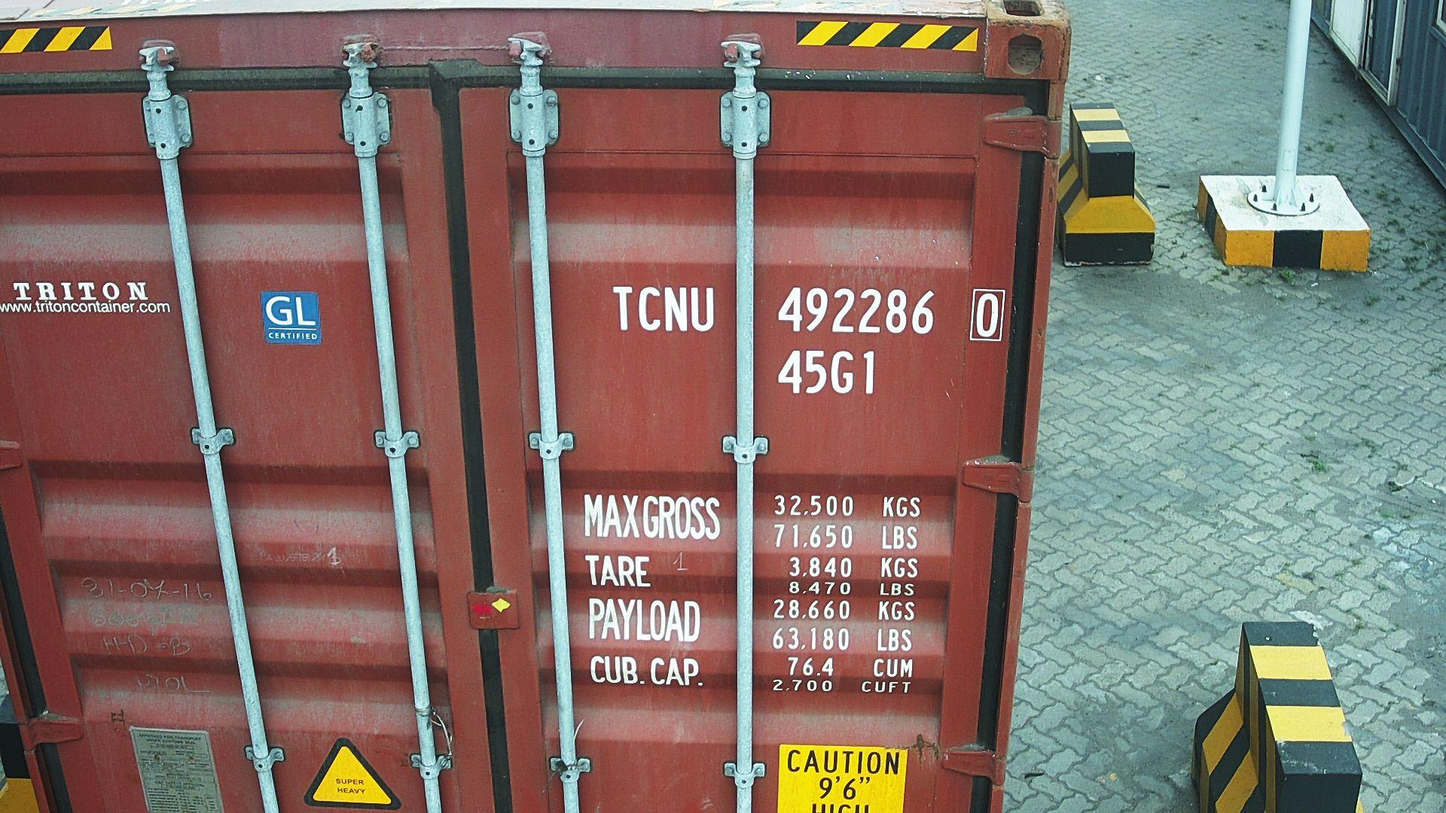container-numbers: (610, 280, 1014, 341), (775, 346, 882, 397)
